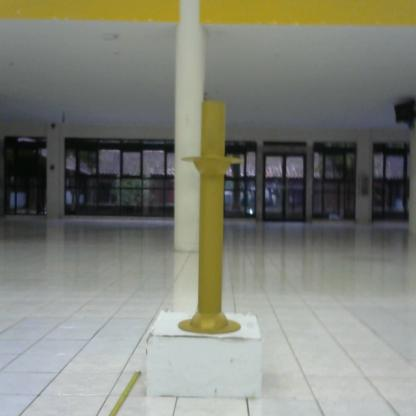pole: (174, 94, 247, 337)
